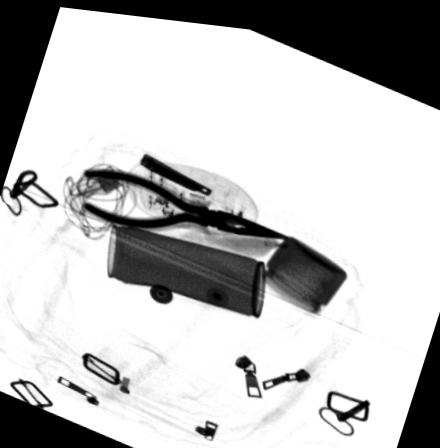Pliers: (81, 164, 289, 232)
